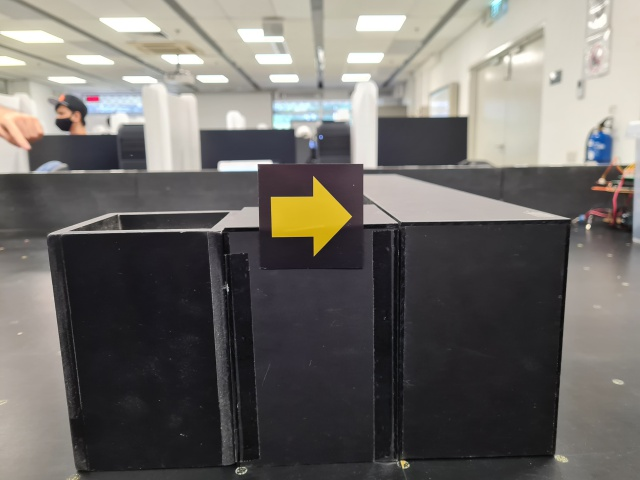right_arrow: (256, 162, 366, 271)
